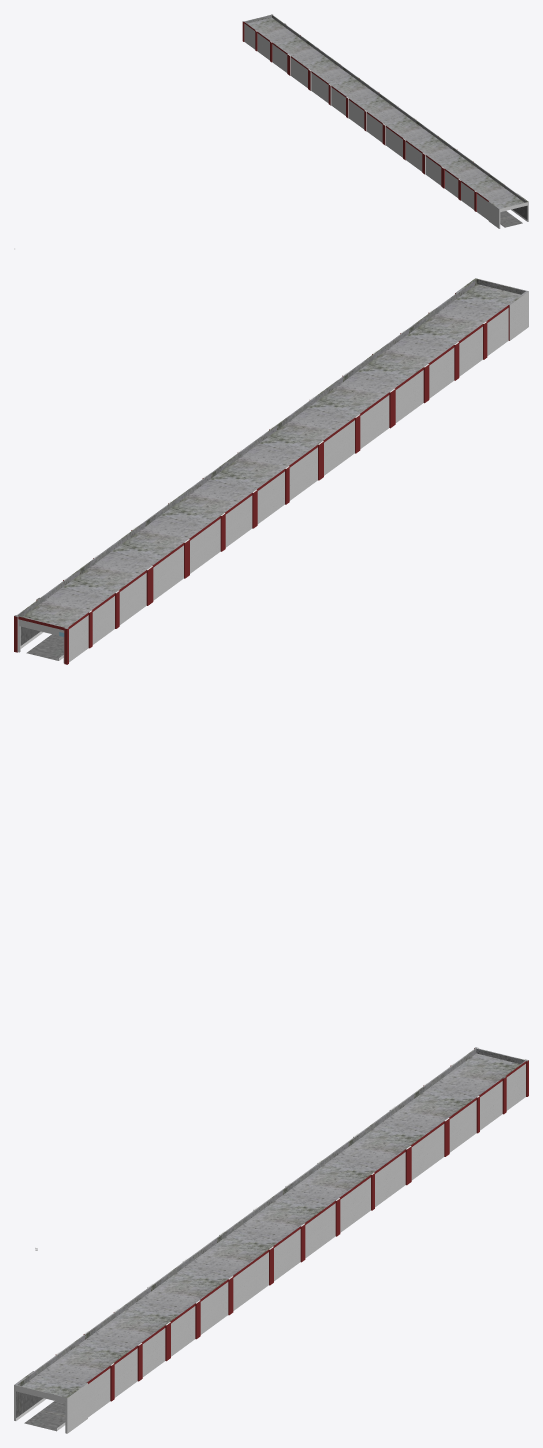
File: tunnel.gltf
3 renders of one model, top to bottom at view 1: azimuth 30°, elevation 25°; view 2: azimuth 150°, elevation 25°; view 3: azimuth 330°, elevation 25°, orthographic. The views are drawn at different scales.
Parts seen in each view (by area): view 1: node_Mesh2_-1210; view 2: node_Mesh2_-1210; view 3: node_Mesh2_-1210.
Boxes of the visible parts, x1,y1,x2,y2 form: node_Mesh2_-1210: (242,14,528,228); node_Mesh2_-1210: (14,278,528,664); node_Mesh2_-1210: (14,1047,528,1433).
Size of the model in its own units: 0.841 by 0.4968 by 1.4.
Materials: 7 (5 with a texture image).
